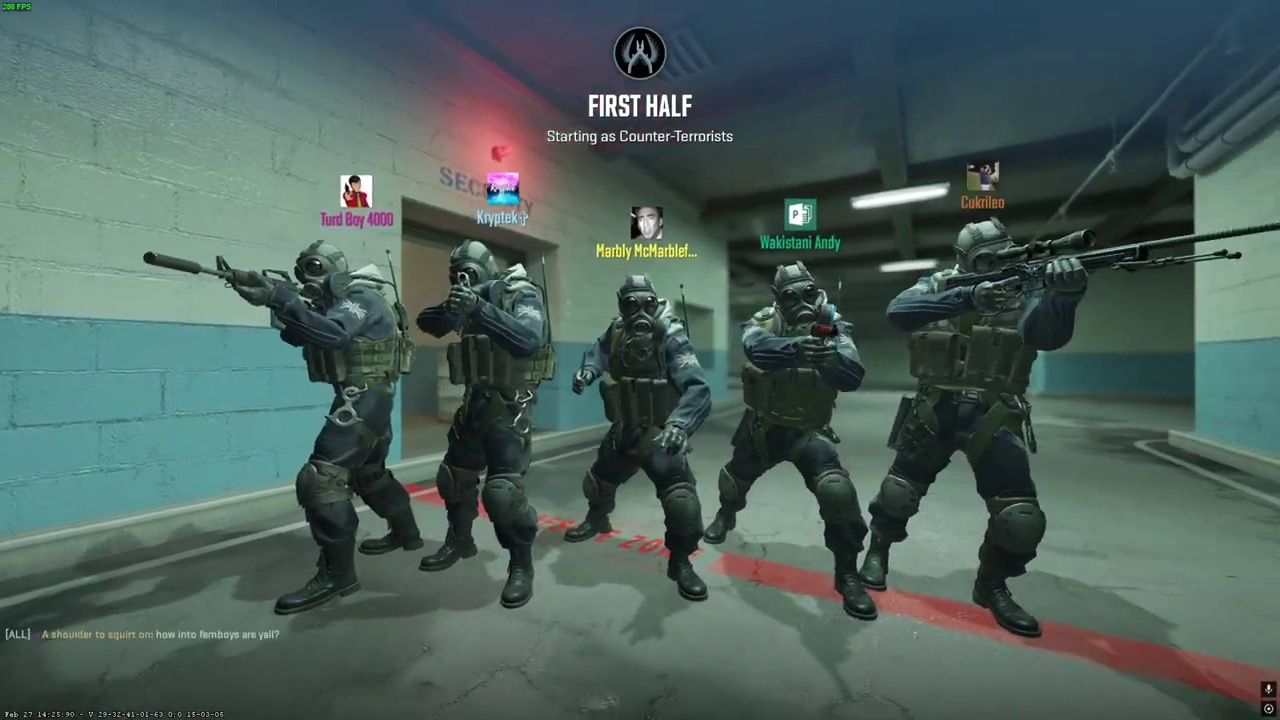CT: (867, 216, 1080, 640), (257, 237, 426, 613), (710, 259, 880, 626), (412, 234, 558, 609), (568, 272, 721, 603)
